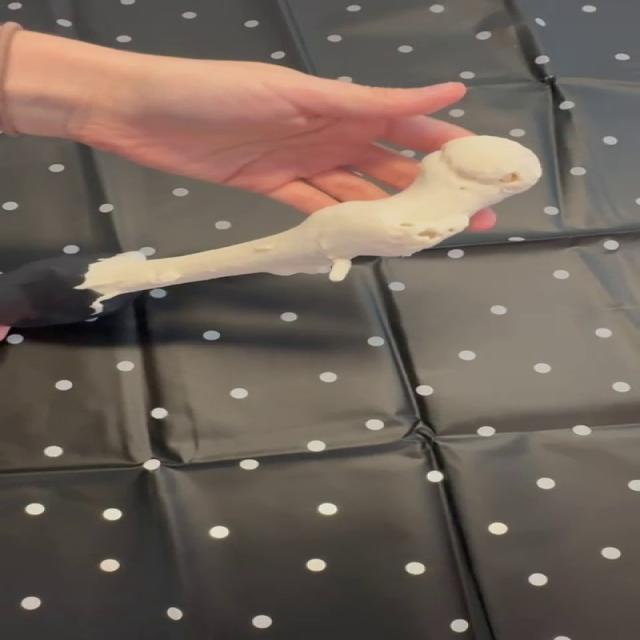bones: (0, 136, 541, 328)
